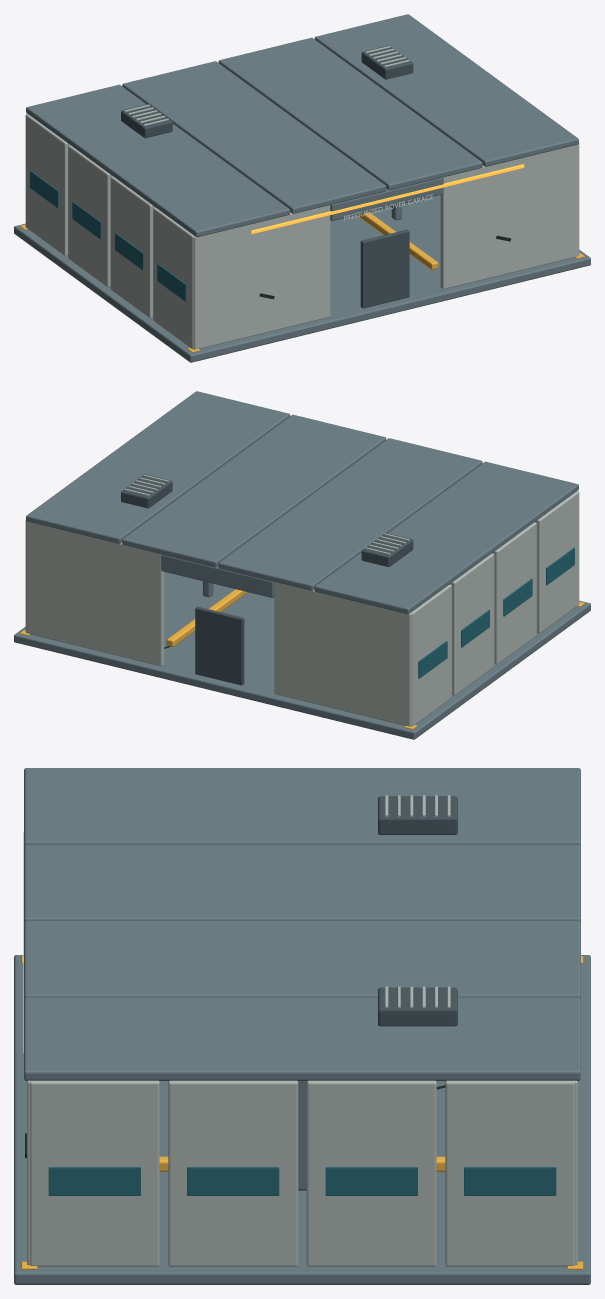
File: industry_garage_d1.glb
The picture shows the model from 3 angles, top to bottom: view 1: azimuth 30°, elevation 25°; view 2: azimuth 150°, elevation 25°; view 3: azimuth 270°, elevation 25°; orthographic projection. The views are drawn at different scales.
Parts seen in each view (by area): view 1: Removable roof segment.046, Removable roof segment.045, Removable roof segment.044, Removable roof segment.047, End bulkhead.061, End bulkhead.060, Foundation.025, Side pressure panel.102, Side pressure panel.101, Side pressure panel.103, Side pressure panel.100, Sealed airlock.018 (+9 smaller); view 2: Removable roof segment.046, Removable roof segment.045, Removable roof segment.044, End bulkhead.063, Removable roof segment.047, End bulkhead.062, Foundation.025, Side pressure panel.101, Side pressure panel.102, Side pressure panel.100, Side pressure panel.103, Sealed airlock.019 (+8 smaller); view 3: Removable roof segment.047, Removable roof segment.045, Removable roof segment.046, Removable roof segment.044, Foundation.025, Side pressure panel.105, Side pressure panel.106, Side pressure panel.104, Side pressure panel.107, Roof heat exchanger.023, Roof heat exchanger.022, Observation glass.092 (+4 smaller).
Part boxes in pixels (x1,y1,x2,y2): Removable roof segment.046: (218,37,482,190); Removable roof segment.045: (122,61,386,213); Removable roof segment.044: (26,84,290,237); Removable roof segment.047: (314,14,578,166); End bulkhead.061: (440,144,578,289); End bulkhead.060: (193,205,330,349); Foundation.025: (14,195,590,362); Side pressure panel.102: (68,145,112,287); Side pressure panel.101: (110,176,154,318); Side pressure panel.103: (25,114,69,256); Side pressure panel.100: (153,207,193,349); Sealed airlock.018: (360,229,409,308); Removable roof segment.046: (122,414,386,567); Removable roof segment.045: (218,438,482,590); Removable roof segment.044: (314,461,578,614); End bulkhead.063: (26,521,164,666); Removable roof segment.047: (26,391,290,543); End bulkhead.062: (274,582,411,726); Foundation.025: (14,572,590,739); Side pressure panel.101: (492,522,536,664); Side pressure panel.102: (450,553,494,695); Side pressure panel.100: (535,491,579,633); Side pressure panel.103: (411,584,451,726); Sealed airlock.019: (195,606,244,685); Removable roof segment.047: (24,997,580,1080); Removable roof segment.045: (24,844,580,922); Removable roof segment.046: (24,921,580,998); Removable roof segment.044: (24,768,580,845); Foundation.025: (14,955,590,1284); Side pressure panel.105: (168,1080,298,1266); Side pressure panel.106: (306,1080,436,1266); Side pressure panel.104: (30,1080,159,1266); Side pressure panel.107: (445,1080,574,1266); Roof heat exchanger.023: (378,987,457,1026); Roof heat exchanger.022: (378,796,457,834); Observation glass.092: (48,1167,140,1195).
Bounding box in the file's own units: 17 × 5.61 × 13.
